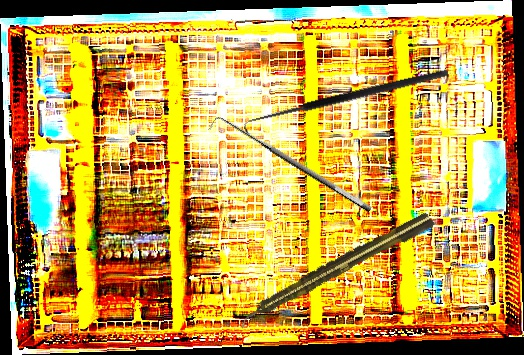Handpiece: (233, 209, 437, 330)
Hook Surgical: (208, 109, 374, 225), (241, 66, 452, 138)
